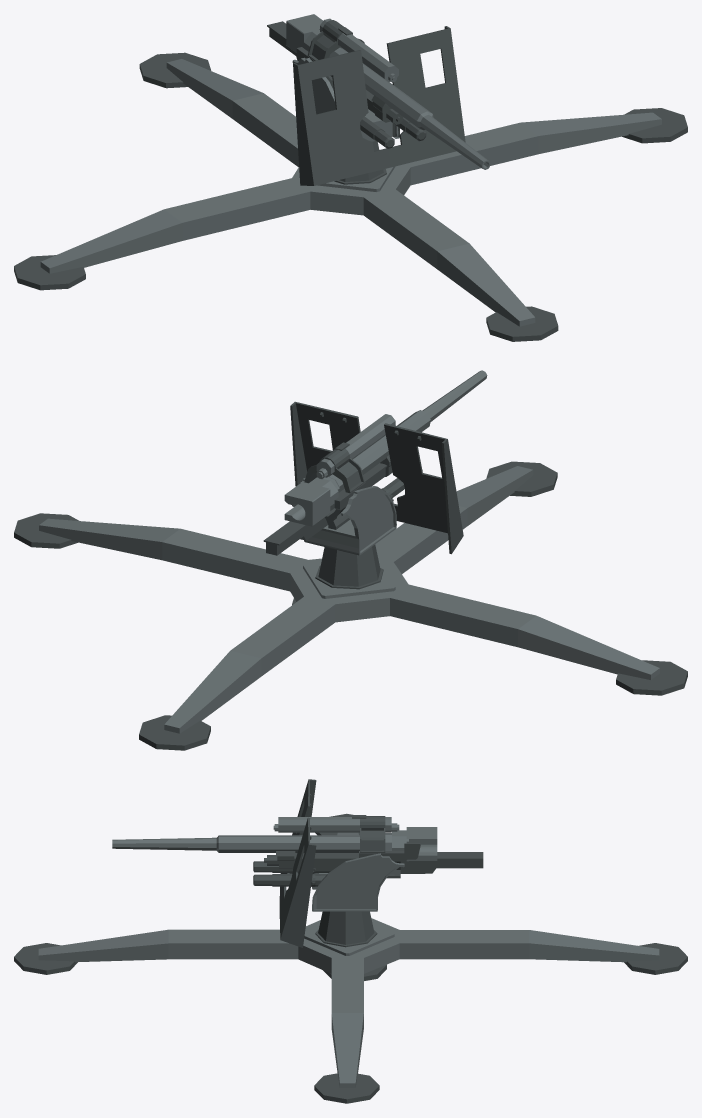
The model's file is Weapon_2.FBX.
3 views of the same model, one above another, from view 1: azimuth 30°, elevation 25°; view 2: azimuth 150°, elevation 25°; view 3: azimuth 270°, elevation 25° (orthographic). The views are drawn at different scales.
Visible parts, largest first — view 1: weapon_2; view 2: weapon_2; view 3: weapon_2.
Part boxes in pixels (x1,y1,x2,y2): weapon_2: [14, 14, 687, 341]; weapon_2: [14, 370, 687, 750]; weapon_2: [14, 779, 687, 1103].
Size of the model in its own units: 7.88 by 1.93 by 7.86.
Materials: 1 (1 with a texture image).
